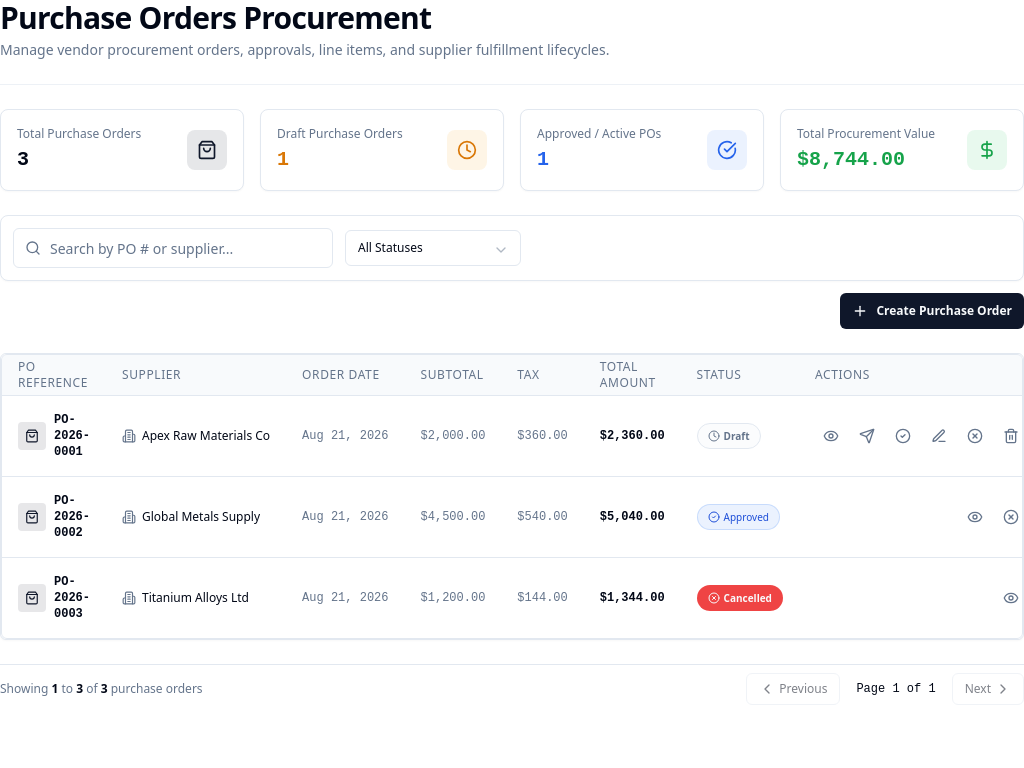
Purchase Orders Management Suite › opens Purchase Order Detail modal when view details action is clicked
This screenshot has width=1024, height=768.
Click the button titled "View Order Details" in the row of "PO-2026-0001". click: (831, 436)
box: left=815, top=420, right=847, bottom=452
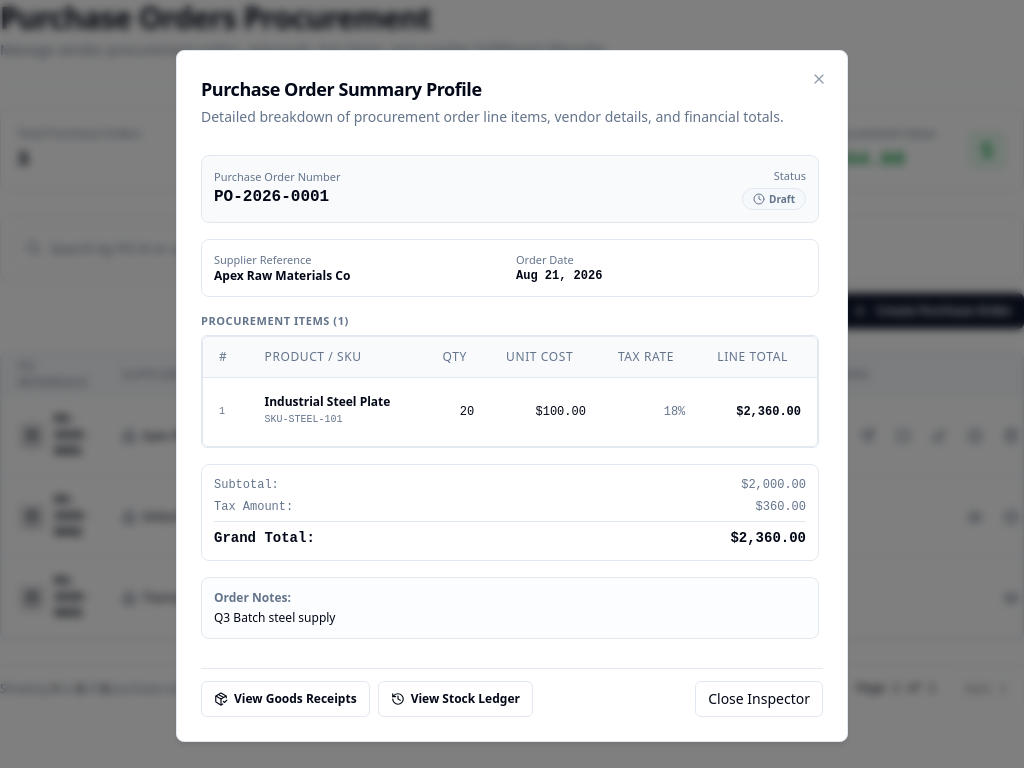
Expected: the heading "Purchase Order Summary Profile" is shown, left=201, top=77, right=482, bottom=101
Expected: the button "View Goods Receipts" is shown, left=201, top=681, right=370, bottom=717
Expected: the button "View Stock Ledger" is shown, left=378, top=681, right=533, bottom=717
